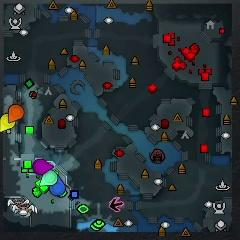p1: (49, 174, 65, 196)
p2: (40, 170, 58, 186)
p3: (32, 159, 53, 174)
p4: (0, 113, 16, 131)
p5: (9, 103, 24, 122)
x1Clone: (108, 198, 124, 211), (109, 197, 122, 209)
